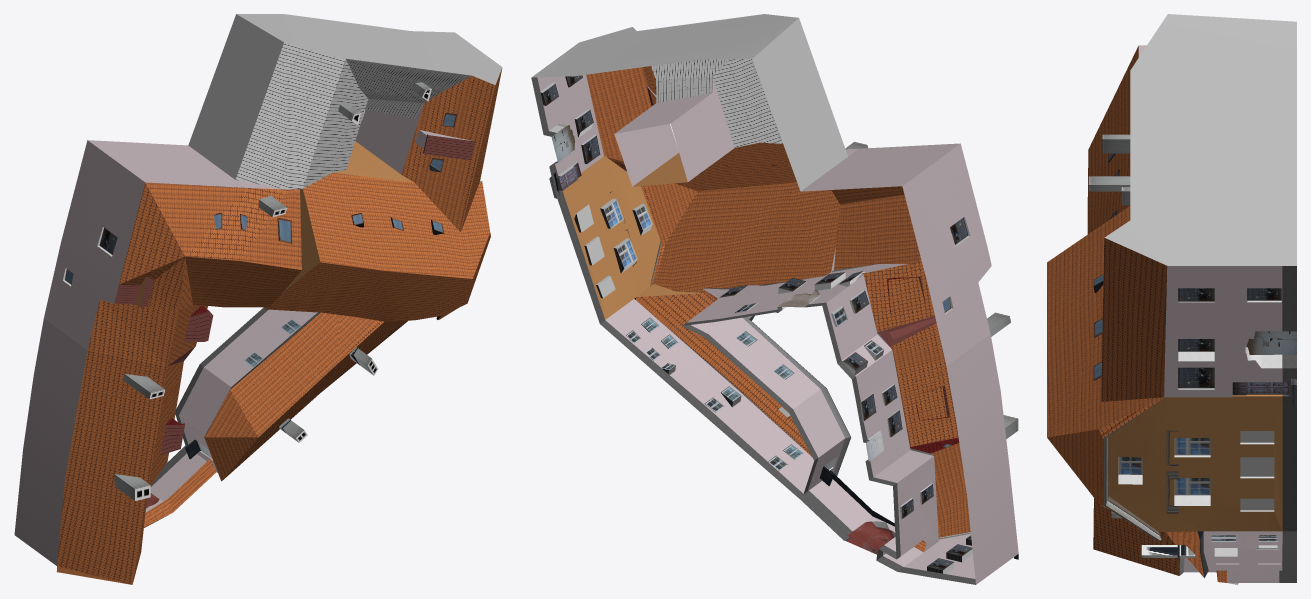
Rendered from Toom-Ryytli_5-origo.obj.
3 views of the same model, side by side, from view 1: azimuth 30°, elevation 25°; view 2: azimuth 150°, elevation 25°; view 3: azimuth 270°, elevation 25° (orthographic). The views are drawn at different scales.
Visible parts, largest first — view 1: Toom_Ryytli_5; view 2: Toom_Ryytli_5; view 3: Toom_Ryytli_5.
Boxes of the visible parts, x1,y1,x2,y2 form: Toom_Ryytli_5: (14, 14, 502, 584); Toom_Ryytli_5: (531, 14, 1018, 584); Toom_Ryytli_5: (1047, 14, 1296, 584).
Size of the model in its own units: 38.5 by 40 by 13.84.
